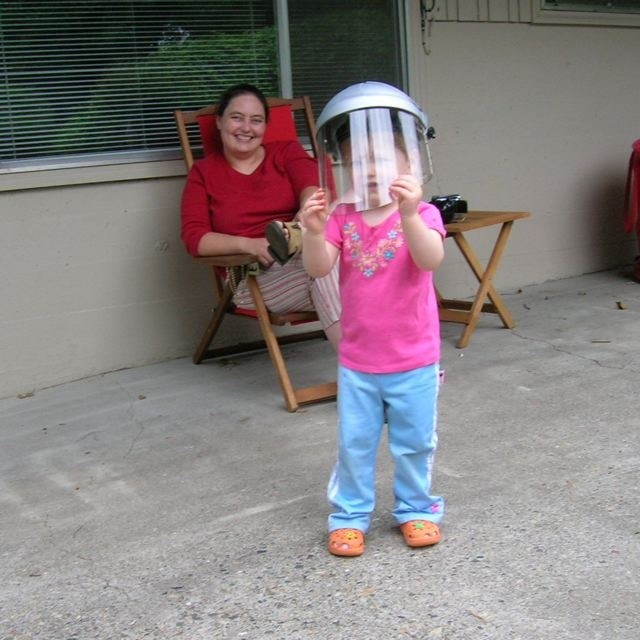face_no_mask: (213, 85, 268, 155)
